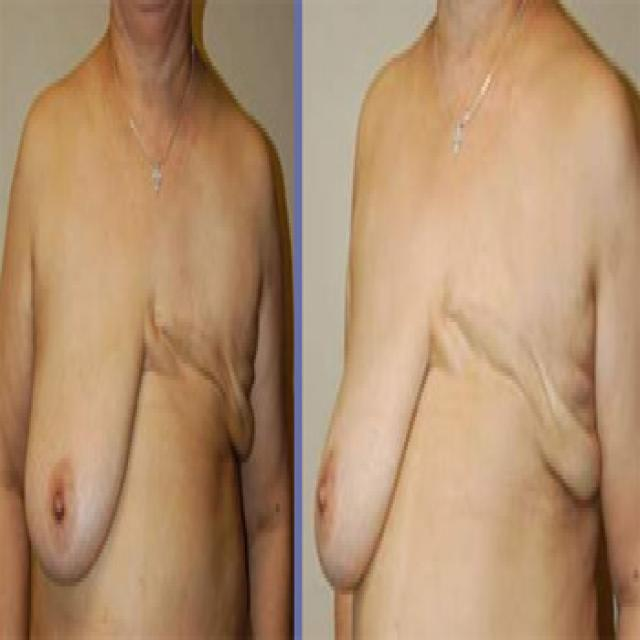Seno herido: (433, 224, 609, 533), (146, 230, 273, 486)
Seno ileso: (20, 231, 144, 604), (310, 226, 430, 600)
